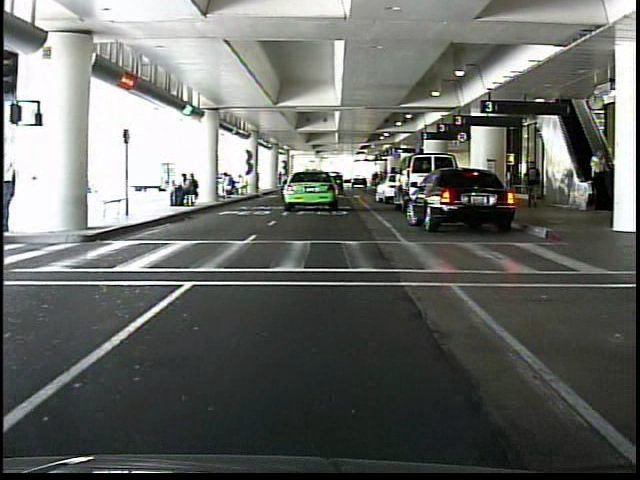person: (585, 144, 609, 208), (521, 155, 545, 214)
